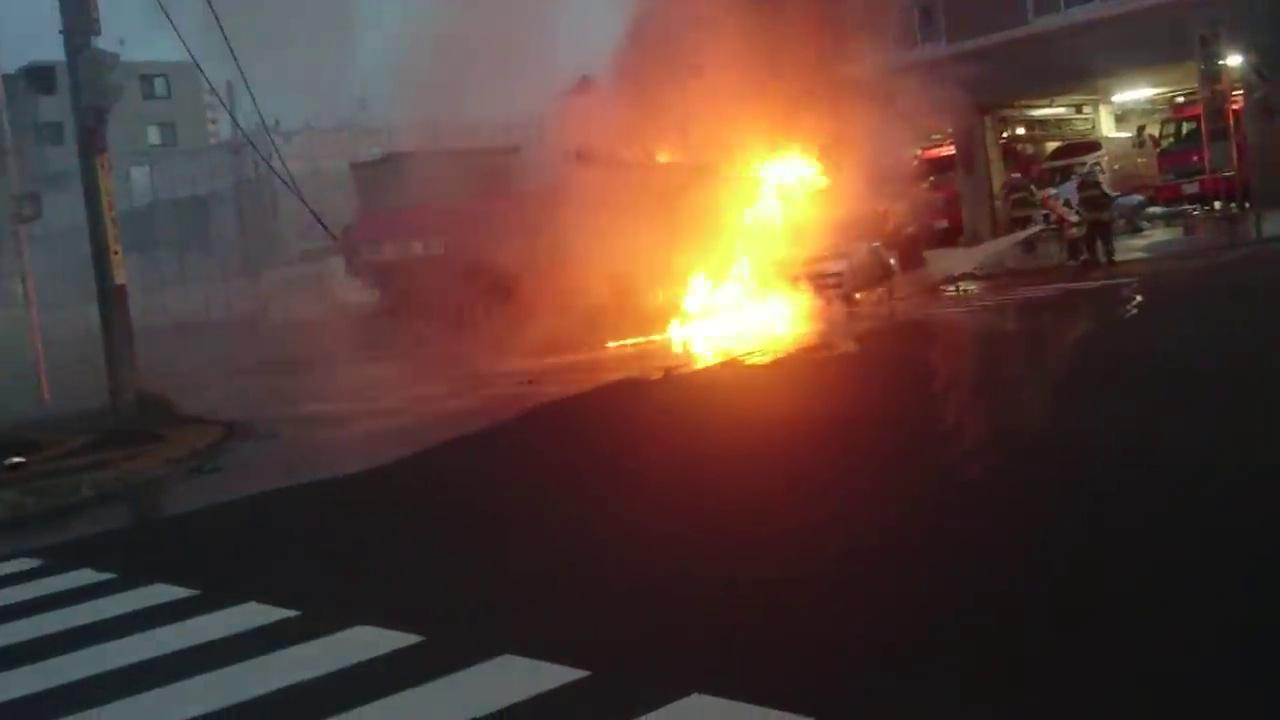Fire: (607, 254, 829, 365), (742, 152, 846, 222), (655, 150, 682, 167)
